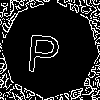P: (25, 25, 63, 74)
